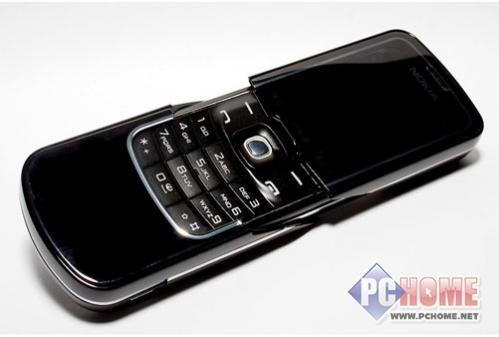phone: (63, 29, 467, 295)
